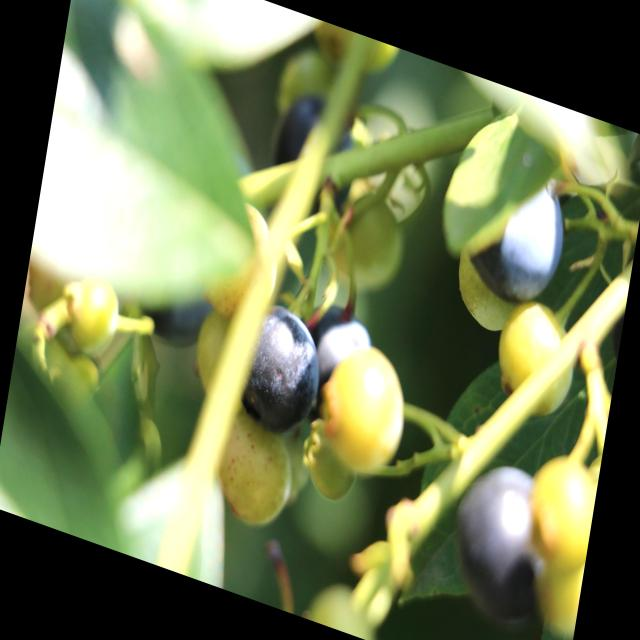blueberry: (448, 447, 558, 639), (458, 154, 574, 318), (128, 225, 228, 369), (238, 299, 327, 439), (269, 93, 359, 223), (297, 299, 377, 445)
blueberry-unripe: (315, 335, 414, 478), (488, 289, 584, 428), (210, 408, 300, 535), (518, 442, 601, 574), (59, 262, 122, 361)
